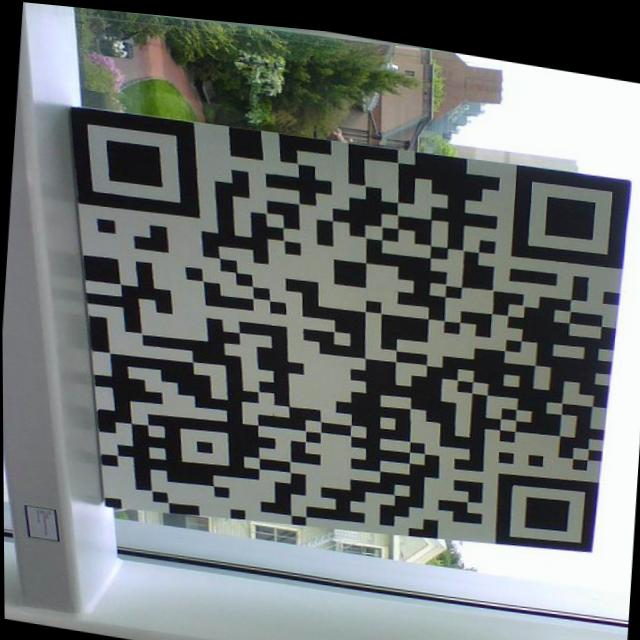qrcode: (43, 85, 633, 579)
